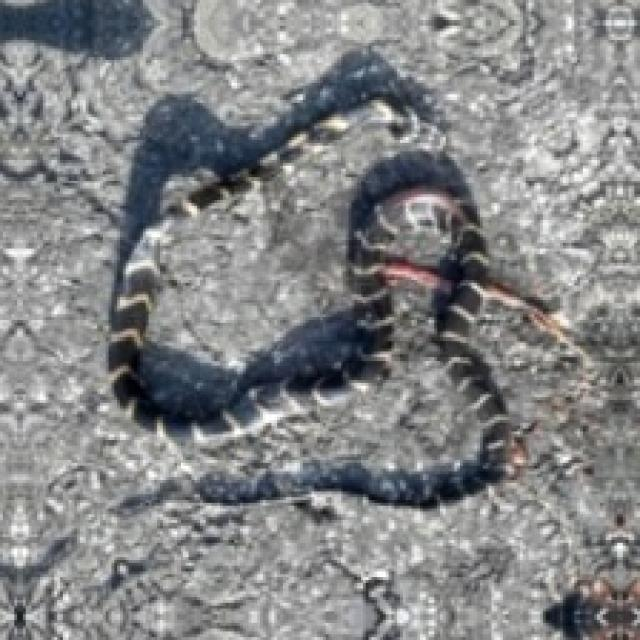king cobra: (109, 49, 511, 506)
